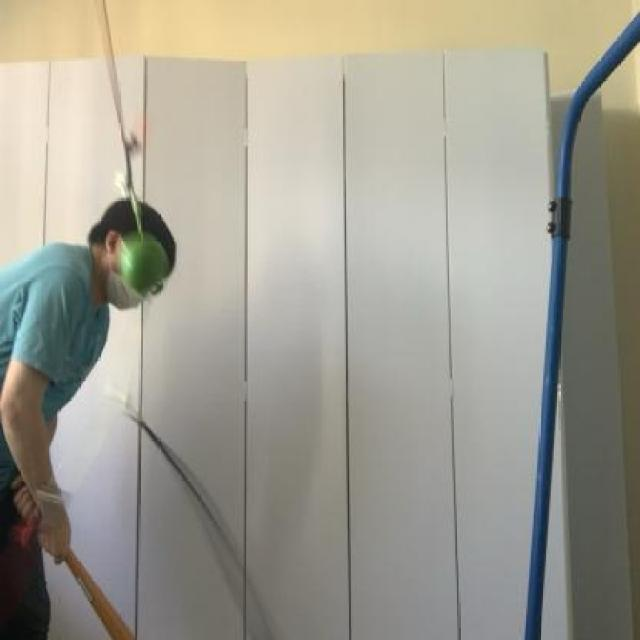baseball: (111, 234, 178, 295)
